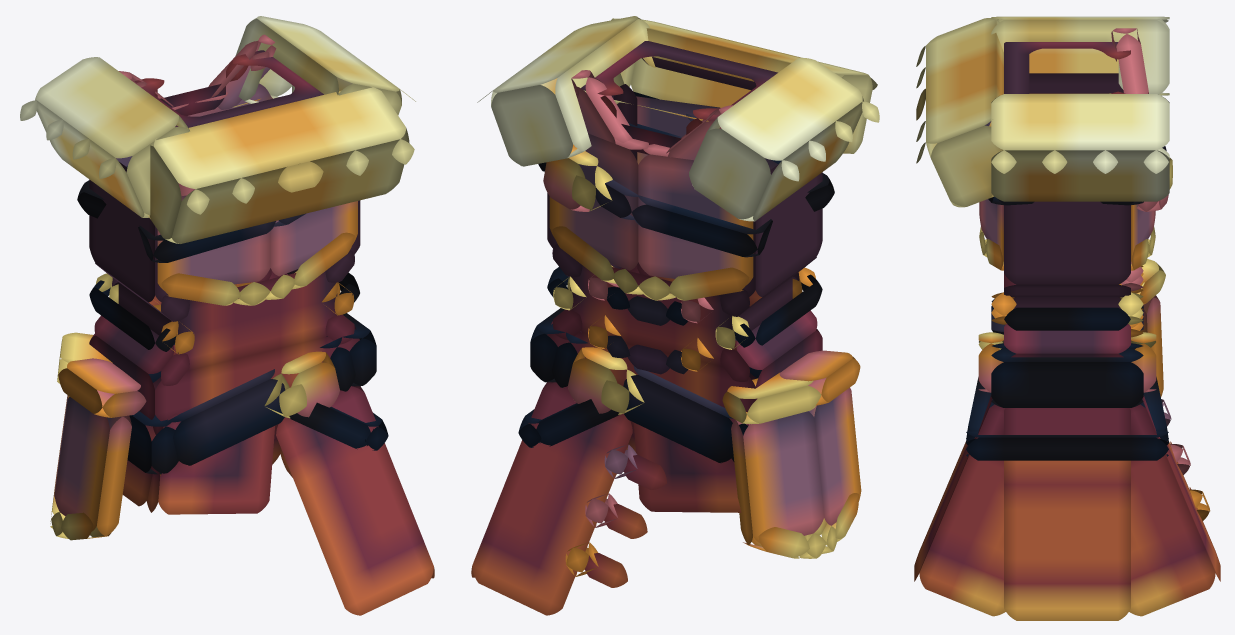
File: DuelistArmorC.obj
The picture shows the model from 3 angles, left to right: view 1: azimuth 30°, elevation 25°; view 2: azimuth 150°, elevation 25°; view 3: azimuth 270°, elevation 25°; orthographic projection. The views are drawn at different scales.
Visible parts, largest first — view 1: cube; view 2: cube; view 3: cube.
Part boxes in pixels (x1,y1,x2,y2): cube: [20, 16, 434, 615]; cube: [471, 16, 879, 615]; cube: [914, 16, 1220, 620].
Bounding box in the file's own units: 0.8671 × 1.41 × 0.7539.
Materials: 1 (1 with a texture image).
